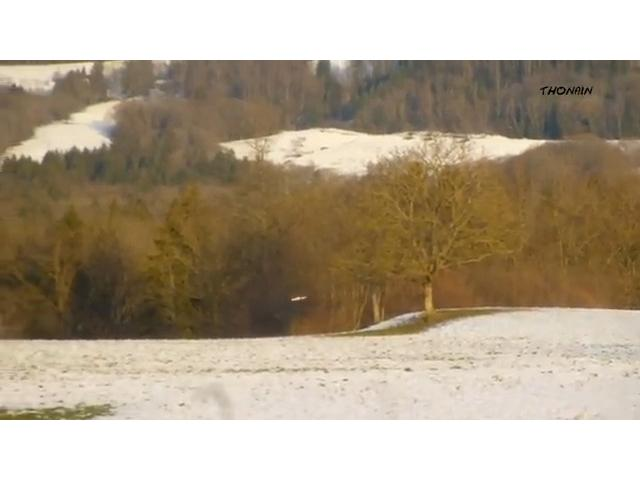Anti-Drone: (290, 293, 316, 307)
